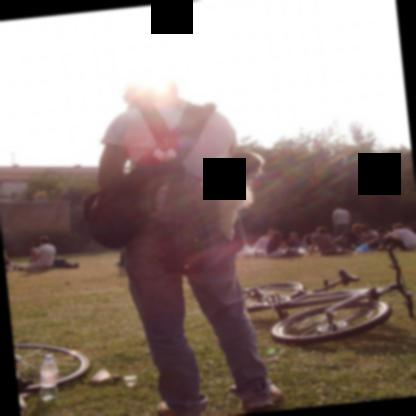backpack: (67, 98, 215, 253)
